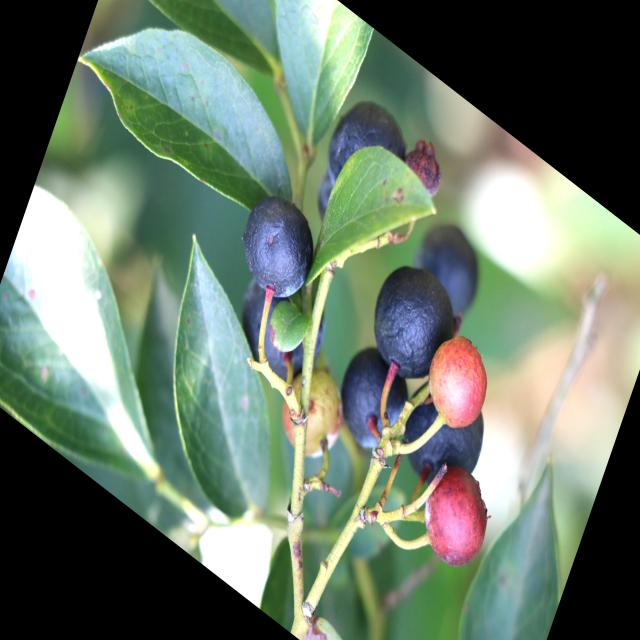blueberry: (229, 256, 334, 405), (317, 83, 414, 226), (363, 255, 459, 397), (398, 372, 489, 508), (231, 182, 322, 314), (328, 336, 413, 463), (409, 212, 487, 318)
blueberry-halfripe: (414, 453, 502, 583), (421, 319, 500, 441)
blueberry-unripe: (271, 355, 353, 475)
